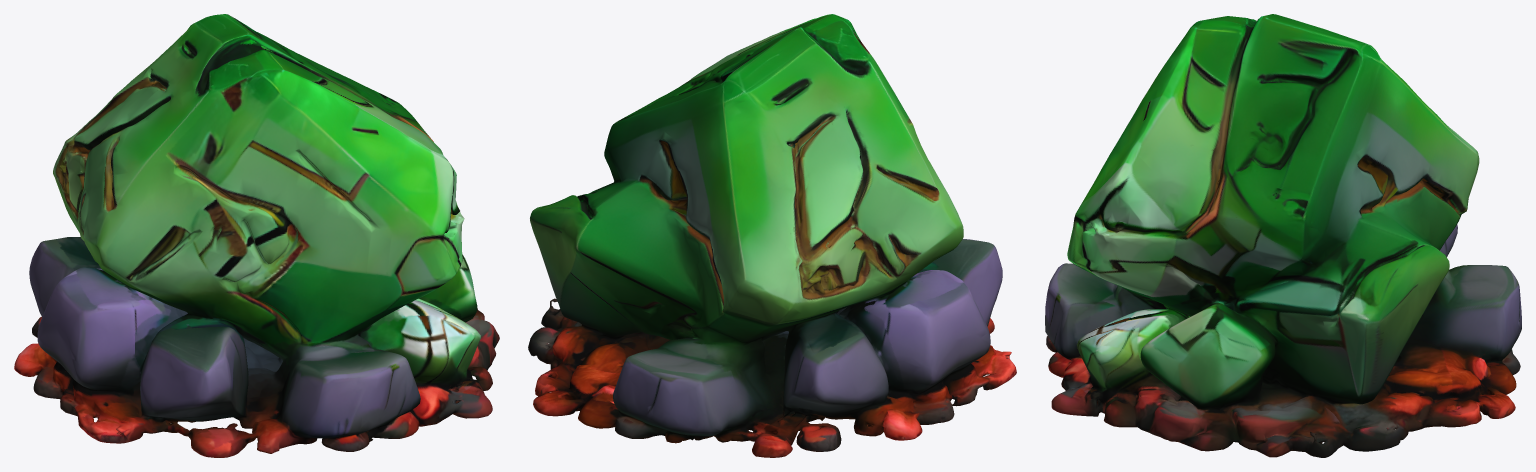
File: GemGreen.fbx
3 renders of one model, left to right at view 1: azimuth 30°, elevation 25°; view 2: azimuth 150°, elevation 25°; view 3: azimuth 270°, elevation 25°, orthographic. The views are drawn at different scales.
Visible parts, largest first — view 1: texture_v100; view 2: texture_v100; view 3: texture_v100.
Part boxes in pixels (x1,y1,x2,y2): texture_v100: (14,14,499,457); texture_v100: (528,14,1016,457); texture_v100: (1045,14,1521,457).
Size of the model in its own units: 89.36 by 68.59 by 89.51.
1 material, 1 textured.
